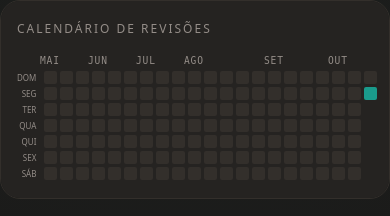
Test case: StreakCalendar › shows popover with count on cell click
Click the button named "seg., 12 de out. de 2026 — 3 revisões": (371, 94) x1=364 y1=87 x2=377 y2=100
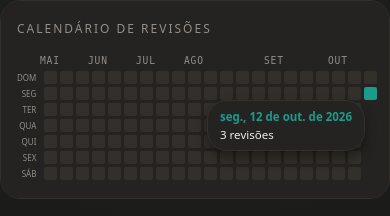
Now the message "seg., 12 de out. de 2026 3 revisões" is shown, box x1=207 y1=100 x2=365 y2=152
Now the text "3 revisões" is shown, box x1=220 y1=127 x2=274 y2=142
